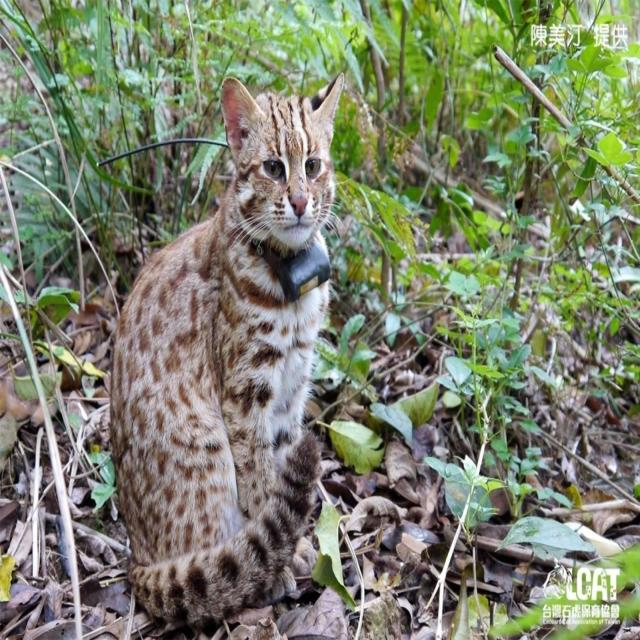leopard: (148, 270, 282, 530), (223, 82, 343, 277)
